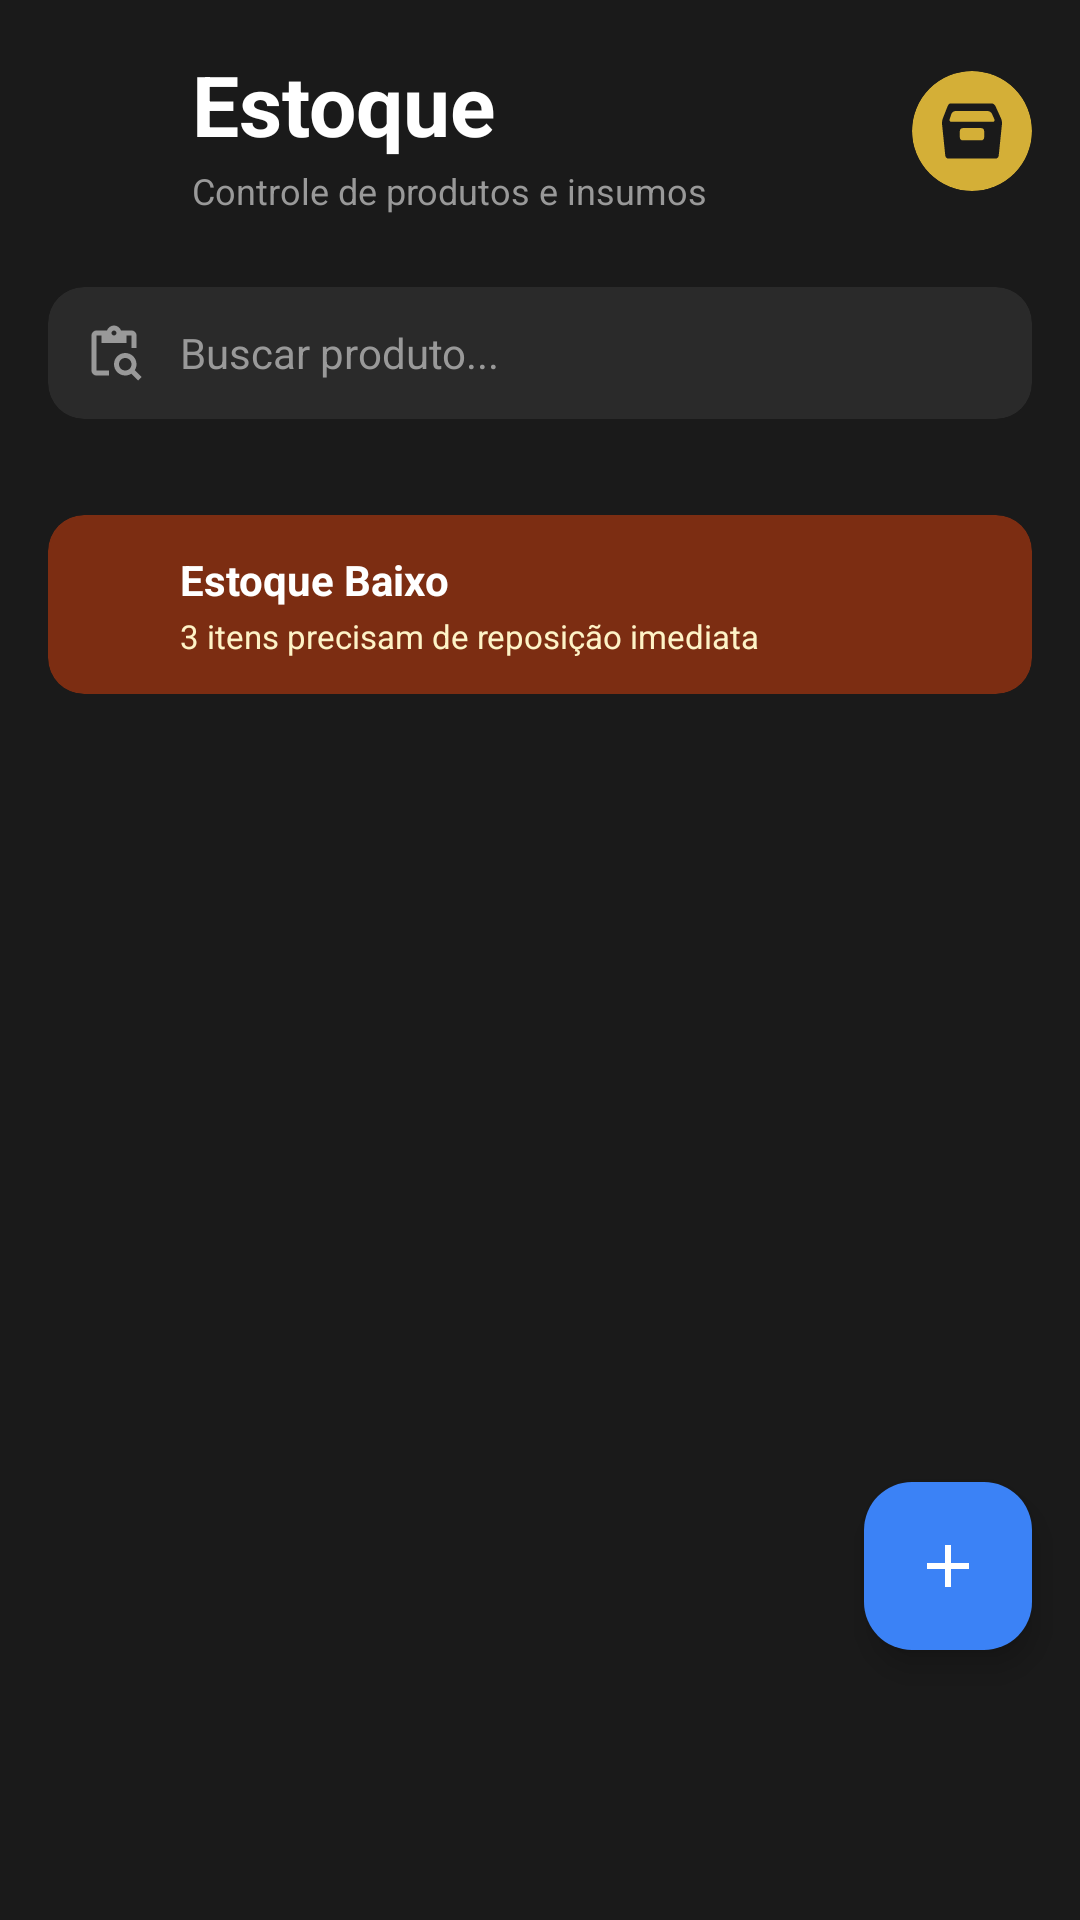

Named icons in this screenshot (1080×1920) and their bounding boxes, [x1,y1,x2,y2]:
Adicionar produto: [864,1482,1032,1650]
search: [91,325,141,380]
stock: [942,103,1002,159]
